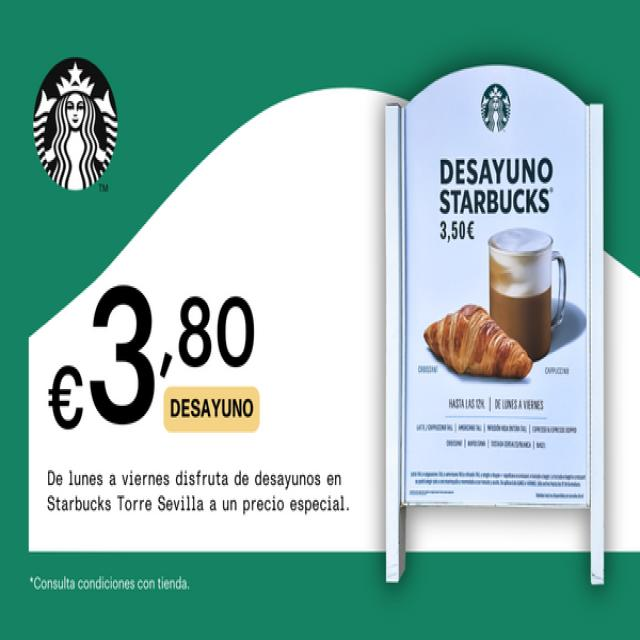starbucks: (25, 44, 120, 198), (476, 77, 511, 135)
